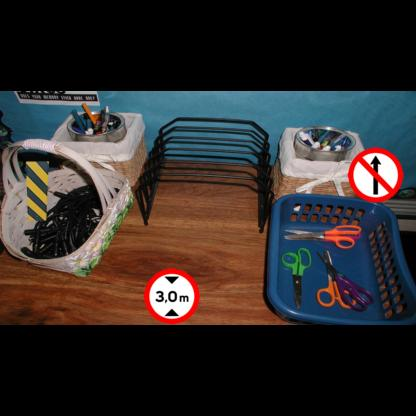O-MP: (26, 161, 49, 221)
R-15: (144, 268, 200, 324)
R-3: (348, 147, 403, 202)
